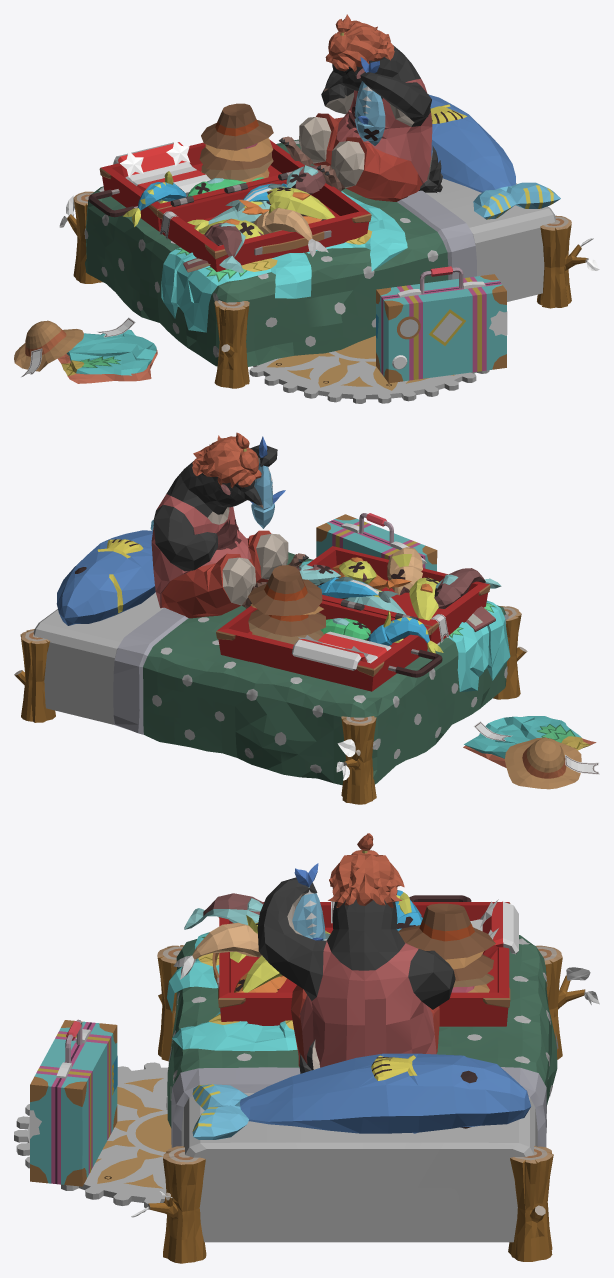
The model's file is 0058_vapenpacking.fbx.
3 renders of one model, top to bottom at view 1: azimuth 30°, elevation 25°; view 2: azimuth 150°, elevation 25°; view 3: azimuth 270°, elevation 25°, orthographic. The views are drawn at different scales.
Visible parts, largest first — view 1: Bed, Vapen_Body, Suitcase, suitcase02 (×2), fish_Pillow, Mat, Bed_Leg (×3), shirt01, Vapen_Head, shirt03, Hat01 (×2), Swimsuit (+18 smaller); view 2: Bed, Vapen_Body, suitcase02 (×2), fish_Pillow, Bed_Leg (×3), Vapen_Head, Hat01 (×2), shirt01, Hat04, Suitcase, vapen_R_Arm, shirt03 (+11 smaller); view 3: Bed, fish_Pillow, Vapen_Body, Bed_Leg (×4), Suitcase, Mat, suitcase02 (×2), Vapen_Head, Hat01 (×2), shirt02, Fish03, vapen_R_Arm (+6 smaller).
Part boxes in pixels (left/top/right/bottom): Bed: left=84, top=139, right=555, bottom=366; Vapen_Body: left=279, top=55, right=432, bottom=201; Suitcase: left=376, top=274, right=506, bottom=383; suitcase02 (×2): left=99, top=140, right=371, bottom=271; fish_Pillow: left=428, top=94, right=560, bottom=219; Mat: left=249, top=335, right=489, bottom=403; Bed_Leg (×3): left=67, top=191, right=588, bottom=388; shirt01: left=161, top=247, right=311, bottom=332; Vapen_Head: left=324, top=14, right=406, bottom=91; shirt03: left=66, top=329, right=156, bottom=375; Hat01 (×2): left=199, top=103, right=273, bottom=170; Swimsuit: left=113, top=142, right=210, bottom=202; Bed: left=33, top=552, right=508, bottom=785; Vapen_Body: left=151, top=445, right=308, bottom=618; suitcase02 (×2): left=216, top=546, right=490, bottom=691; fish_Pillow: left=56, top=520, right=155, bottom=625; Bed_Leg (×3): left=14, top=606, right=527, bottom=804; Vapen_Head: left=180, top=432, right=263, bottom=514; Hat01 (×2): left=248, top=565, right=325, bottom=636; shirt01: left=449, top=600, right=510, bottom=691; Hat04: left=505, top=737, right=581, bottom=789; Suitcase: left=316, top=514, right=437, bottom=571; vapen_R_Arm: left=153, top=505, right=217, bottom=571; shirt03: left=464, top=716, right=583, bottom=758; Bed: left=166, top=935, right=558, bottom=1242; fish_Pillow: left=192, top=1053, right=531, bottom=1139; Vapen_Body: left=257, top=877, right=439, bottom=1067; Bed_Leg (×4): left=148, top=945, right=585, bottom=1263; Suitcase: left=30, top=1020, right=117, bottom=1186; Mat: left=14, top=1062, right=171, bottom=1209; suitcase02 (×2): left=218, top=902, right=510, bottom=1026; Vapen_Head: left=328, top=833, right=404, bottom=930; Hat01 (×2): left=398, top=903, right=495, bottom=981; shirt02: left=172, top=1011, right=297, bottom=1051; Fish03: left=173, top=915, right=261, bottom=979; vapen_R_Arm: left=408, top=949, right=455, bottom=1009.
Size of the model in its own units: 8.03 by 4.05 by 6.32.
